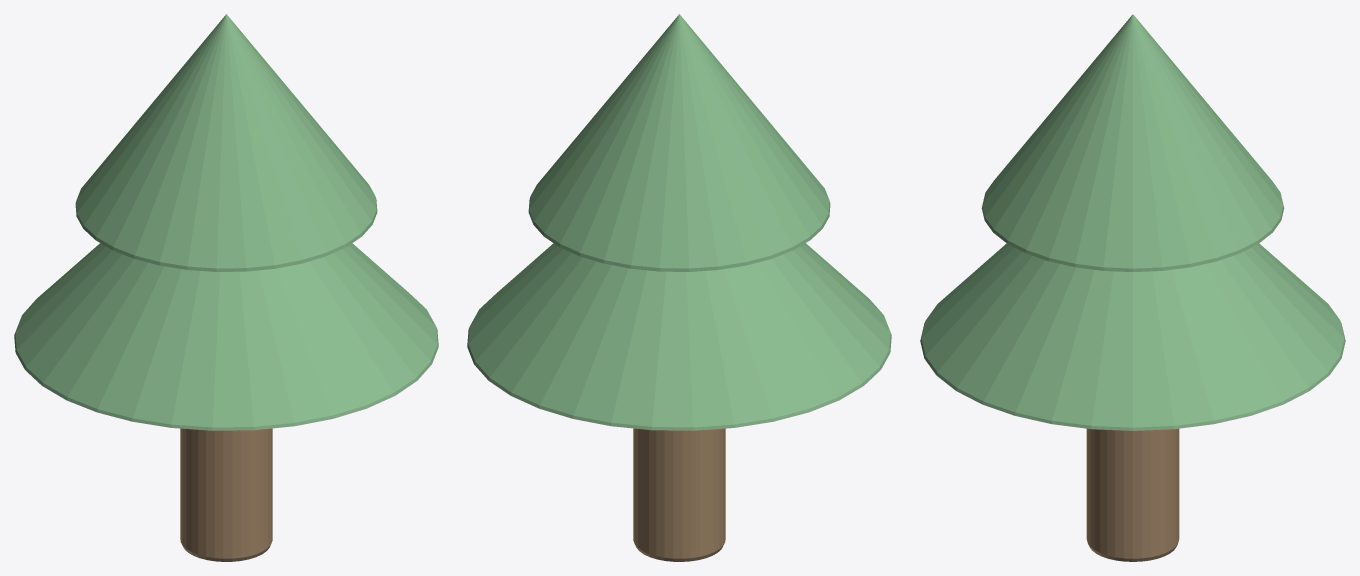
The model's file is diorama_tree.glb.
The picture shows the model from 3 angles, left to right: view 1: azimuth 30°, elevation 25°; view 2: azimuth 150°, elevation 25°; view 3: azimuth 270°, elevation 25°; orthographic projection.
Visible parts, largest first — view 1: Leaves_Bottom, Leaves_Top, Trunk; view 2: Leaves_Bottom, Leaves_Top, Trunk; view 3: Leaves_Bottom, Leaves_Top, Trunk.
Boxes of the visible parts, left/top/right/bottom form: Leaves_Bottom: left=14, top=243, right=438, bottom=430; Leaves_Top: left=75, top=14, right=377, bottom=271; Trunk: left=180, top=428, right=272, bottom=561; Leaves_Bottom: left=467, top=243, right=891, bottom=430; Leaves_Top: left=528, top=14, right=830, bottom=271; Trunk: left=633, top=428, right=725, bottom=561; Leaves_Bottom: left=920, top=243, right=1345, bottom=430; Leaves_Top: left=981, top=14, right=1284, bottom=271; Trunk: left=1086, top=428, right=1179, bottom=561.
Bounding box in the file's own units: 2.76 × 3.8 × 2.76.
